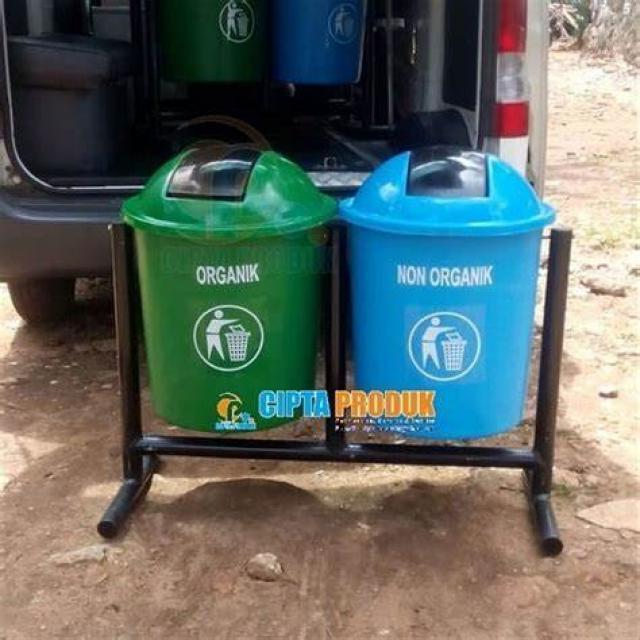garbage container: (90, 126, 350, 482), (353, 131, 585, 510)
